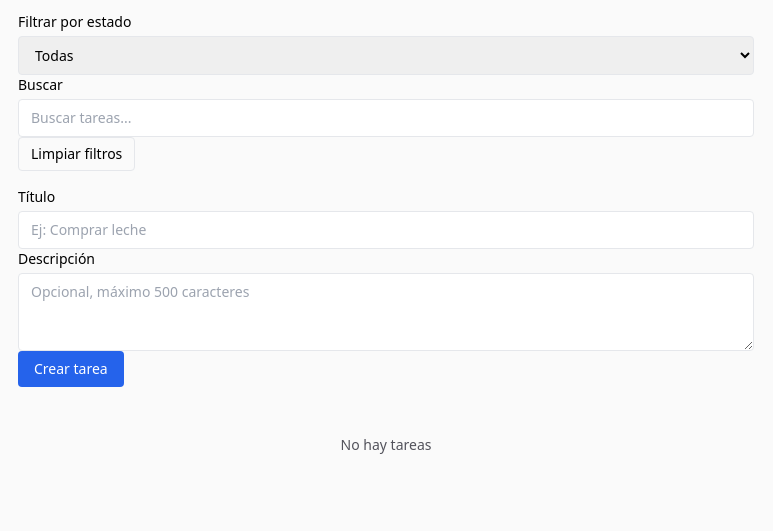
it: TasksPage › crear tarea vía form actualiza lista
Expected: the text "No hay tareas" is shown, [340,435,431,454]
Type "Nueva tarea" into the field labelled "Título" at (386, 230), box [18,211,754,249]
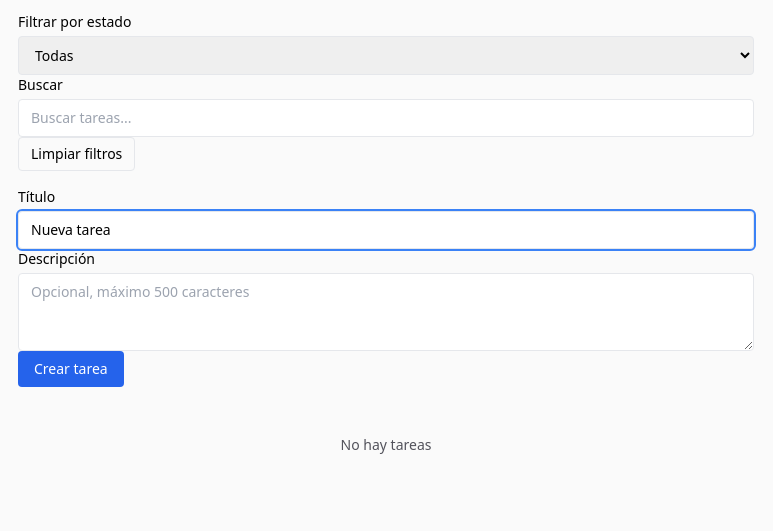
Click the button "Crear tarea" at (71, 369), box [18,351,124,387]
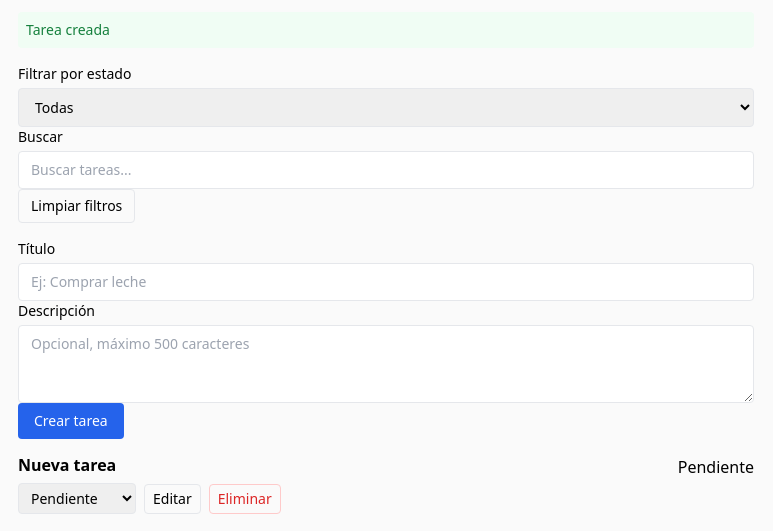
Expected: the heading "Nueva tarea" is shown, [18,455,116,475]
